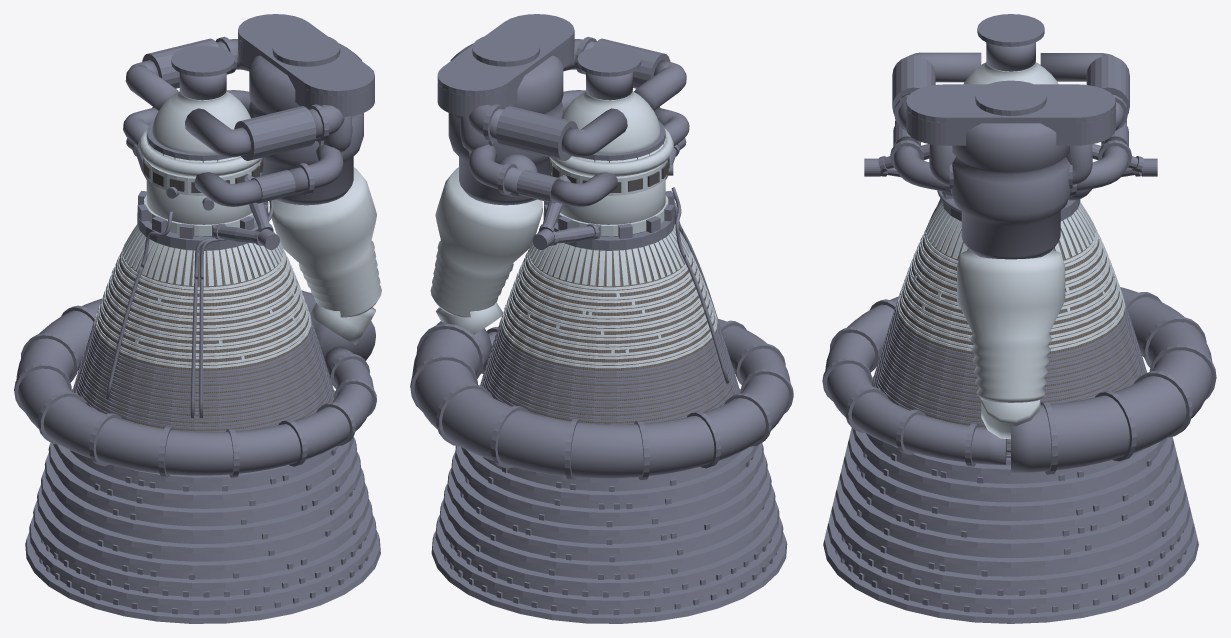
The picture shows the model from 3 angles, left to right: view 1: azimuth 30°, elevation 25°; view 2: azimuth 150°, elevation 25°; view 3: azimuth 270°, elevation 25°; orthographic projection. The views are drawn at different scales.
Parts seen in each view (by area): view 1: f1_manifold, f1_nozzle, f1_extension, f1_heat_exchanger, f1_turbopump, f1_nozzle_ribs, f1_manifold_joints, f1_extension_hoop_00, f1_extension_hoop_01, f1_extension_hoop_02, f1_extension_hoop_03, f1_extension_hoop_04 (+53 smaller); view 2: f1_manifold, f1_nozzle, f1_extension, f1_heat_exchanger, f1_manifold_joints, f1_nozzle_ribs, f1_turbopump, f1_extension_hoop_00, f1_extension_hoop_01, f1_extension_hoop_02, f1_extension_hoop_03, f1_extension_hoop_04 (+50 smaller); view 3: f1_manifold, f1_extension, f1_turbopump, f1_heat_exchanger, f1_nozzle, f1_manifold_joints, f1_extension_hoop_00, f1_extension_hoop_01, f1_extension_hoop_02, f1_extension_hoop_03, f1_extension_hoop_04, f1_extension_hoop_05 (+43 smaller).
Boxes of the visible parts, x1=… form: f1_manifold: x1=16, y1=290, x2=375, y2=475; f1_nozzle: x1=76, y1=243, x2=331, y2=431; f1_extension: x1=43, y1=446, x2=365, y2=614; f1_heat_exchanger: x1=269, y1=167, x2=381, y2=317; f1_turbopump: x1=249, y1=43, x2=363, y2=205; f1_nozzle_ribs: x1=122, y1=224, x2=283, y2=286; f1_manifold_joints: x1=14, y1=305, x2=376, y2=477; f1_extension_hoop_00: x1=25, y1=531, x2=380, y2=623; f1_extension_hoop_01: x1=29, y1=515, x2=376, y2=606; f1_extension_hoop_02: x1=33, y1=499, x2=372, y2=588; f1_extension_hoop_03: x1=37, y1=483, x2=369, y2=571; f1_extension_hoop_04: x1=41, y1=468, x2=365, y2=553; f1_manifold: x1=412, y1=319, x2=790, y2=478; f1_nozzle: x1=484, y1=244, x2=735, y2=423; f1_extension: x1=447, y1=451, x2=769, y2=614; f1_heat_exchanger: x1=430, y1=167, x2=542, y2=317; f1_manifold_joints: x1=410, y1=320, x2=793, y2=480; f1_nozzle_ribs: x1=529, y1=224, x2=689, y2=286; f1_turbopump: x1=448, y1=43, x2=563, y2=205; f1_extension_hoop_00: x1=431, y1=531, x2=787, y2=623; f1_extension_hoop_01: x1=435, y1=515, x2=783, y2=606; f1_extension_hoop_02: x1=439, y1=499, x2=779, y2=588; f1_extension_hoop_03: x1=443, y1=483, x2=775, y2=571; f1_extension_hoop_04: x1=447, y1=468, x2=771, y2=553; f1_manifold: x1=825, y1=287, x2=1212, y2=473; f1_extension: x1=838, y1=433, x2=1183, y2=613; f1_turbopump: x1=951, y1=123, x2=1070, y2=259; f1_heat_exchanger: x1=957, y1=250, x2=1065, y2=402; f1_nozzle: x1=875, y1=221, x2=1142, y2=454; f1_manifold_joints: x1=822, y1=292, x2=1216, y2=474; f1_extension_hoop_00: x1=823, y1=524, x2=1198, y2=623; f1_extension_hoop_01: x1=827, y1=508, x2=1194, y2=605; f1_extension_hoop_02: x1=831, y1=492, x2=1190, y2=586; f1_extension_hoop_03: x1=835, y1=474, x2=1186, y2=568; f1_extension_hoop_04: x1=839, y1=459, x2=1182, y2=549; f1_extension_hoop_05: x1=843, y1=443, x2=1178, y2=531.
Size of the model in its own units: 4.13 by 5.75 by 3.98.
Materials: 4 (1 with a texture image).
